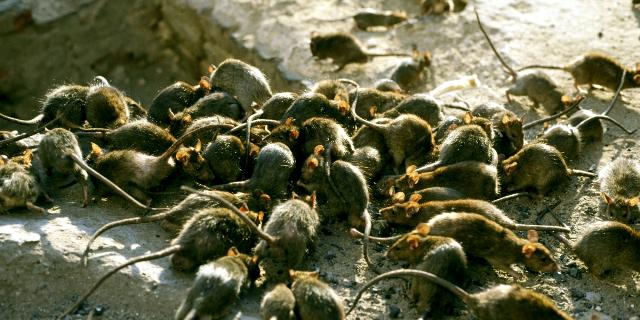rat: (390, 207, 550, 277), (458, 214, 562, 290), (163, 202, 269, 276), (258, 188, 328, 284), (495, 53, 581, 129), (376, 192, 534, 232), (78, 138, 182, 198), (176, 245, 260, 319), (260, 105, 358, 167), (28, 122, 98, 205), (562, 44, 640, 100), (302, 26, 388, 76), (166, 88, 252, 132), (592, 182, 640, 234)
